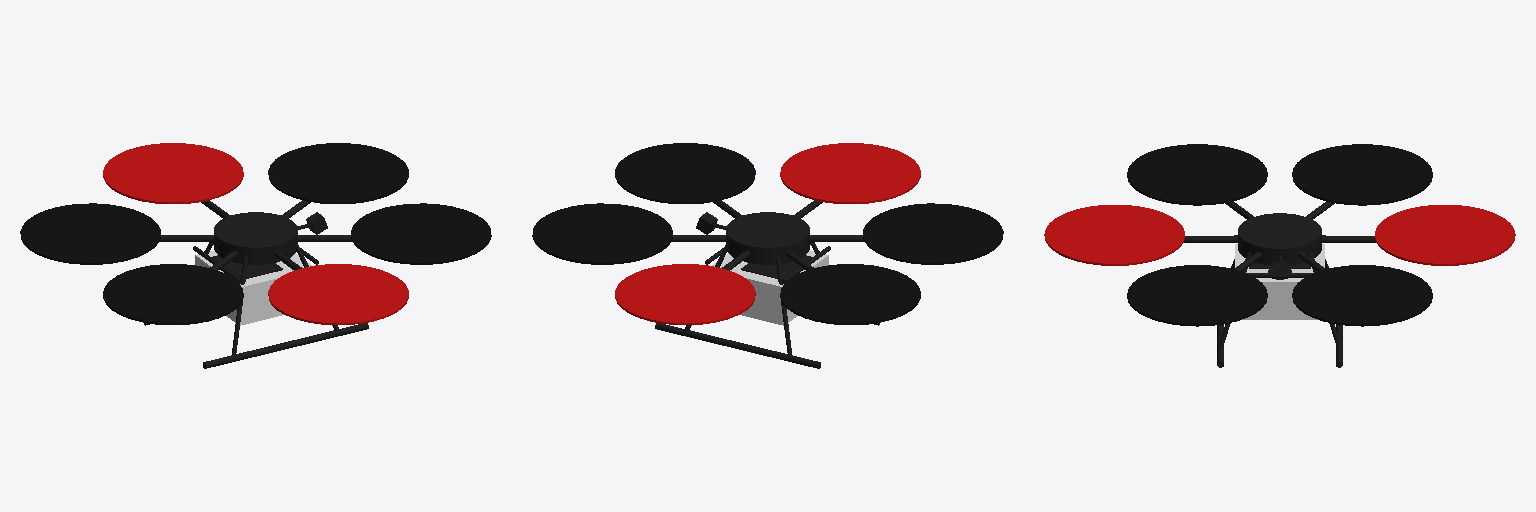
The robot description file, URDF, robot "eft_e610p":
<?xml version="1.0"?>
<robot name="eft_e610p">

  <!-- Base Footprint (Ground projection) -->
  <link name="base_footprint"/>

  <joint name="base_footprint_joint" type="fixed">
    <parent link="base_footprint"/>
    <child link="base_link"/>
    <origin xyz="0 0 0.337" rpy="0 0 0"/>
  </joint>

  <!-- Base Link (Hub + Arms + Landing Gear + Support Bars) -->
  <link name="base_link">
    <!-- Hub Visual -->
    <visual>
      <origin xyz="0 0 0.08" rpy="0 0 0"/>
      <geometry>
        <cylinder radius="0.18" length="0.08"/>
      </geometry>
      <material name="dark_gray">
        <color rgba="0.15 0.15 0.15 1.0"/>
      </material>
    </visual>

    <!-- Arm 0 Visual -->
    <visual>
      <origin xyz="0 0.35175 0.08" rpy="0 1.570796327 1.570796327"/>
      <geometry>
        <cylinder radius="0.015" length="0.7035"/>
      </geometry>
      <material name="dark_gray"/>
    </visual>

    <!-- Arm 1 Visual -->
    <visual>
      <origin xyz="0 -0.35175 0.08" rpy="0 1.570796327 -1.570796327"/>
      <geometry>
        <cylinder radius="0.015" length="0.7035"/>
      </geometry>
      <material name="dark_gray"/>
    </visual>

    <!-- Arm 2 Visual -->
    <visual>
      <origin xyz="0.3046 -0.175875 0.08" rpy="0 1.570796327 -0.5236"/>
      <geometry>
        <cylinder radius="0.015" length="0.7035"/>
      </geometry>
      <material name="dark_gray"/>
    </visual>

    <!-- Arm 3 Visual -->
    <visual>
      <origin xyz="-0.3046 0.175875 0.08" rpy="0 1.570796327 2.618"/>
      <geometry>
        <cylinder radius="0.015" length="0.7035"/>
      </geometry>
      <material name="dark_gray"/>
    </visual>

    <!-- Arm 4 Visual -->
    <visual>
      <origin xyz="0.3046 0.175875 0.08" rpy="0 1.570796327 0.5236"/>
      <geometry>
        <cylinder radius="0.015" length="0.7035"/>
      </geometry>
      <material name="dark_gray"/>
    </visual>

    <!-- Arm 5 Visual -->
    <visual>
      <origin xyz="-0.3046 -0.175875 0.08" rpy="0 1.570796327 -2.618"/>
      <geometry>
        <cylinder radius="0.015" length="0.7035"/>
      </geometry>
      <material name="dark_gray"/>
    </visual>

    <!-- Skid Left Visual -->
    <visual>
      <origin xyz="0 0.253 -0.322" rpy="0 1.570796327 0"/>
      <geometry>
        <cylinder radius="0.015" length="0.8"/>
      </geometry>
      <material name="dark_gray"/>
    </visual>

    <!-- Skid Right Visual -->
    <visual>
      <origin xyz="0 -0.253 -0.322" rpy="0 1.570796327 0"/>
      <geometry>
        <cylinder radius="0.015" length="0.8"/>
      </geometry>
      <material name="dark_gray"/>
    </visual>

    <!-- Leg Front Left Visual -->
    <visual>
      <origin xyz="0.1895 0.1915 -0.121" rpy="0.297 -0.333 0"/>
      <geometry>
        <cylinder radius="0.01" length="0.443"/>
      </geometry>
      <material name="dark_gray"/>
    </visual>

    <!-- Leg Back Left Visual -->
    <visual>
      <origin xyz="-0.1895 0.1915 -0.121" rpy="0.297 0.333 0"/>
      <geometry>
        <cylinder radius="0.01" length="0.443"/>
      </geometry>
      <material name="dark_gray"/>
    </visual>

    <!-- Leg Front Right Visual -->
    <visual>
      <origin xyz="0.1895 -0.1915 -0.121" rpy="-0.297 -0.333 0"/>
      <geometry>
        <cylinder radius="0.01" length="0.443"/>
      </geometry>
      <material name="dark_gray"/>
    </visual>

    <!-- Leg Back Right Visual -->
    <visual>
      <origin xyz="-0.1895 -0.1915 -0.121" rpy="-0.297 0.333 0"/>
      <geometry>
        <cylinder radius="0.01" length="0.443"/>
      </geometry>
      <material name="dark_gray"/>
    </visual>

    <!-- Tank Support Front Visual -->
    <visual>
      <origin xyz="0.189 0 0" rpy="1.570796327 0 0"/>
      <geometry>
        <cylinder radius="0.01" length="0.39"/>
      </geometry>
      <material name="dark_gray"/>
    </visual>

    <!-- Tank Support Back Visual -->
    <visual>
      <origin xyz="-0.189 0 0" rpy="1.570796327 0 0"/>
      <geometry>
        <cylinder radius="0.01" length="0.39"/>
      </geometry>
      <material name="dark_gray"/>
    </visual>
  </link>

  <!-- Camera Mounting Rod -->
  <link name="camera_mount">
    <visual>
      <origin xyz="0 0 0" rpy="0 1.570796327 0"/>
      <geometry>
        <cylinder radius="0.008" length="0.12"/>
      </geometry>
      <material name="dark_gray">
        <color rgba="0.15 0.15 0.15 1.0"/>
      </material>
    </visual>
  </link>

  <joint name="camera_mount_joint" type="fixed">
    <parent link="base_link"/>
    <child link="camera_mount"/>
    <origin xyz="0.24 0 0.08" rpy="0 0 0"/>
  </joint>

  <!-- Chin Camera Link for RViz visualization -->
  <link name="chin_camera">
    <visual>
      <origin xyz="0 0 0" rpy="0 0 0"/>
      <geometry>
        <box size="0.06 0.06 0.06"/>
      </geometry>
      <material name="black">
        <color rgba="0.15 0.15 0.15 1.0"/>
      </material>
    </visual>
  </link>

  <joint name="chin_camera_joint" type="fixed">
    <parent link="base_link"/>
    <child link="chin_camera"/>
    <origin xyz="0.30 0 0.08" rpy="0 1.2217 0"/>
  </joint>

  <!-- Spray/Payload Tank -->
  <link name="tank_link">
    <!-- Main Tank Body -->
    <visual>
      <origin xyz="0 0 0" rpy="0 0 0"/>
      <geometry>
        <box size="0.38 0.38 0.18"/>
      </geometry>
      <material name="white">
        <color rgba="0.9 0.9 0.9 0.8"/>
      </material>
    </visual>

    <!-- Top Mount Plate -->
    <visual>
      <origin xyz="-0.05 0 0.09" rpy="0 0 0"/>
      <geometry>
        <box size="0.22 0.26 0.01"/>
      </geometry>
      <material name="black">
        <color rgba="0.15 0.15 0.15 1.0"/>
      </material>
    </visual>

    <!-- Filling Cap/Lid -->
    <visual>
      <origin xyz="0.12 0 0.095" rpy="0 0 0"/>
      <geometry>
        <cylinder radius="0.05" length="0.03"/>
      </geometry>
      <material name="black"/>
    </visual>
  </link>

  <joint name="tank_joint" type="fixed">
    <parent link="base_link"/>
    <child link="tank_link"/>
    <origin xyz="0 0 -0.12" rpy="0 0 0"/>
  </joint>

  <!-- Rotors (Motors + Propellers) -->
  <!-- Rotor 0 (CW, Left) -->
  <link name="rotor_0">
    <visual>
      <origin xyz="0 0 0" rpy="0 0 0"/>
      <geometry>
        <cylinder radius="0.3" length="0.01"/>
      </geometry>
      <material name="red">
        <color rgba="0.8 0.1 0.1 0.6"/>
      </material>
    </visual>
  </link>
  <joint name="rotor_0_joint" type="revolute">
    <parent link="base_link"/>
    <child link="rotor_0"/>
    <origin xyz="0 0.7035 0.1" rpy="0 0 0"/>
    <axis xyz="0 0 1"/>
    <limit lower="-3.14159" upper="3.14159" effort="10" velocity="100"/>
  </joint>

  <!-- Rotor 1 (CCW, Right) -->
  <link name="rotor_1">
    <visual>
      <origin xyz="0 0 0" rpy="0 0 0"/>
      <geometry>
        <cylinder radius="0.3" length="0.01"/>
      </geometry>
      <material name="red"/>
    </visual>
  </link>
  <joint name="rotor_1_joint" type="revolute">
    <parent link="base_link"/>
    <child link="rotor_1"/>
    <origin xyz="0 -0.7035 0.1" rpy="0 0 0"/>
    <axis xyz="0 0 1"/>
    <limit lower="-3.14159" upper="3.14159" effort="10" velocity="100"/>
  </joint>

  <!-- Rotor 2 (CW, Front Right) -->
  <link name="rotor_2">
    <visual>
      <origin xyz="0 0 0" rpy="0 0 0"/>
      <geometry>
        <cylinder radius="0.3" length="0.01"/>
      </geometry>
      <material name="rotor_black">
        <color rgba="0.1 0.1 0.1 0.6"/>
      </material>
    </visual>
  </link>
  <joint name="rotor_2_joint" type="revolute">
    <parent link="base_link"/>
    <child link="rotor_2"/>
    <origin xyz="0.6092 -0.35175 0.1" rpy="0 0 0"/>
    <axis xyz="0 0 1"/>
    <limit lower="-3.14159" upper="3.14159" effort="10" velocity="100"/>
  </joint>

  <!-- Rotor 3 (CCW, Back Left) -->
  <link name="rotor_3">
    <visual>
      <origin xyz="0 0 0" rpy="0 0 0"/>
      <geometry>
        <cylinder radius="0.3" length="0.01"/>
      </geometry>
      <material name="rotor_black"/>
    </visual>
  </link>
  <joint name="rotor_3_joint" type="revolute">
    <parent link="base_link"/>
    <child link="rotor_3"/>
    <origin xyz="-0.6092 0.35175 0.1" rpy="0 0 0"/>
    <axis xyz="0 0 1"/>
    <limit lower="-3.14159" upper="3.14159" effort="10" velocity="100"/>
  </joint>

  <!-- Rotor 4 (CCW, Front Left) -->
  <link name="rotor_4">
    <visual>
      <origin xyz="0 0 0" rpy="0 0 0"/>
      <geometry>
        <cylinder radius="0.3" length="0.01"/>
      </geometry>
      <material name="rotor_black"/>
    </visual>
  </link>
  <joint name="rotor_4_joint" type="revolute">
    <parent link="base_link"/>
    <child link="rotor_4"/>
    <origin xyz="0.6092 0.35175 0.1" rpy="0 0 0"/>
    <axis xyz="0 0 1"/>
    <limit lower="-3.14159" upper="3.14159" effort="10" velocity="100"/>
  </joint>

  <!-- Rotor 5 (CW, Back Right) -->
  <link name="rotor_5">
    <visual>
      <origin xyz="0 0 0" rpy="0 0 0"/>
      <geometry>
        <cylinder radius="0.3" length="0.01"/>
      </geometry>
      <material name="rotor_black"/>
    </visual>
  </link>
  <joint name="rotor_5_joint" type="revolute">
    <parent link="base_link"/>
    <child link="rotor_5"/>
    <origin xyz="-0.6092 -0.35175 0.1" rpy="0 0 0"/>
    <axis xyz="0 0 1"/>
    <limit lower="-3.14159" upper="3.14159" effort="10" velocity="100"/>
  </joint>

</robot>

--- Render facts (derived) ---
3 views of the same robot in one strip: view 1: azimuth 30°, elevation 25°; view 2: azimuth 150°, elevation 25°; view 3: azimuth 270°, elevation 25° (orthographic).
Model eft_e610p with 11 links and 10 joints (6 revolute, 4 fixed), rooted at base_footprint, posed every joint at zero.
Links seen in each view (by area): view 1: base_link, rotor_3, rotor_2, rotor_4, rotor_1, rotor_5, rotor_0, tank_link; view 2: base_link, rotor_5, rotor_2, rotor_4, rotor_0, rotor_3, rotor_1, tank_link; view 3: rotor_3, rotor_5, rotor_2, rotor_4, rotor_0, rotor_1, base_link, tank_link.
Link boxes in pixels (x1,y1,x2,y2): base_link: (144, 200, 368, 368); rotor_3: (20, 203, 160, 264); rotor_2: (351, 203, 491, 264); rotor_4: (268, 143, 408, 203); rotor_1: (268, 264, 408, 324); rotor_5: (103, 264, 243, 324); rotor_0: (103, 143, 243, 203); tank_link: (195, 250, 311, 325); base_link: (655, 200, 879, 368); rotor_5: (863, 203, 1003, 264); rotor_2: (615, 143, 755, 203); rotor_4: (532, 203, 672, 264); rotor_0: (615, 264, 755, 324); rotor_3: (780, 264, 920, 324); rotor_1: (780, 143, 920, 203); tank_link: (712, 250, 828, 325); rotor_3: (1292, 144, 1432, 205); rotor_5: (1127, 144, 1267, 205); rotor_2: (1127, 265, 1267, 326); rotor_4: (1292, 265, 1432, 326); rotor_0: (1375, 205, 1515, 265); rotor_1: (1044, 205, 1184, 265); base_link: (1184, 201, 1375, 367); tank_link: (1235, 244, 1324, 319).
Bounding box of the posed robot: 1.82 × 2.01 × 0.457 m (x, y, z).
Geometry: primitives only (box / cylinder / sphere), no mesh files.
